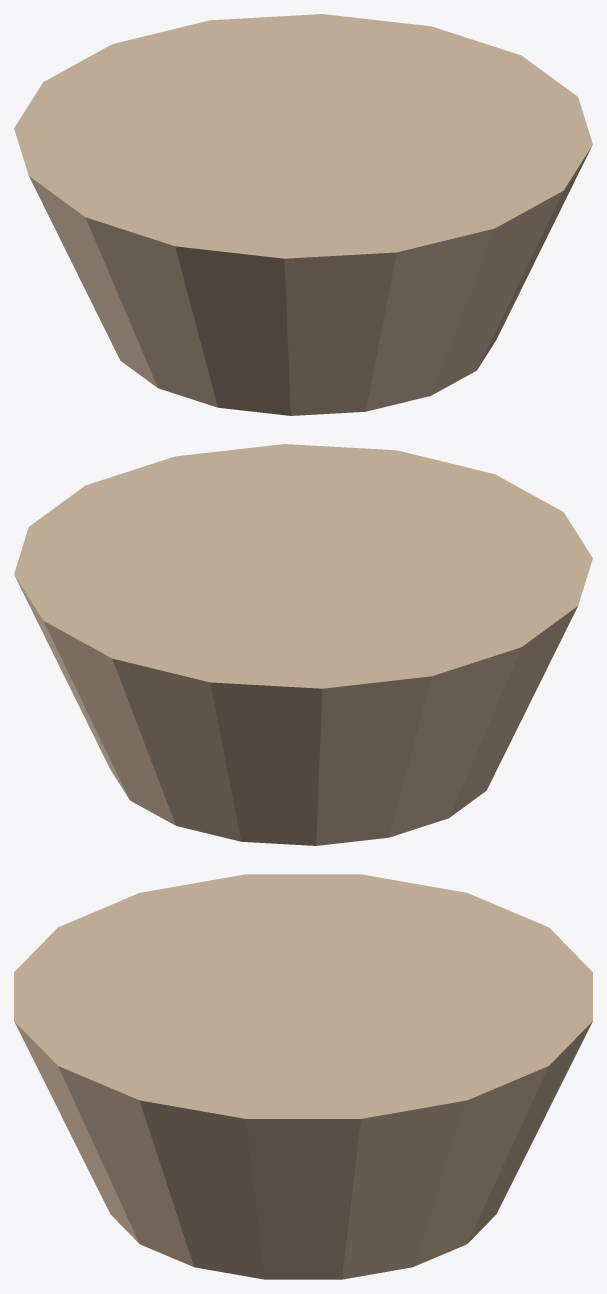
The model's file is Libra_RCS_1_Collider.obj.
3 views of the same model, one above another, from view 1: azimuth 30°, elevation 25°; view 2: azimuth 150°, elevation 25°; view 3: azimuth 270°, elevation 25° (orthographic).
Visible parts, largest first — view 1: Libra_RCS_1_Collider; view 2: Libra_RCS_1_Collider; view 3: Libra_RCS_1_Collider.
Part boxes in pixels (left/top/right/bottom): Libra_RCS_1_Collider: left=14, top=14, right=592, bottom=415; Libra_RCS_1_Collider: left=14, top=444, right=592, bottom=845; Libra_RCS_1_Collider: left=14, top=874, right=592, bottom=1279.
Bounding box in the file's own units: 0.9375 × 0.36 × 0.9375.
